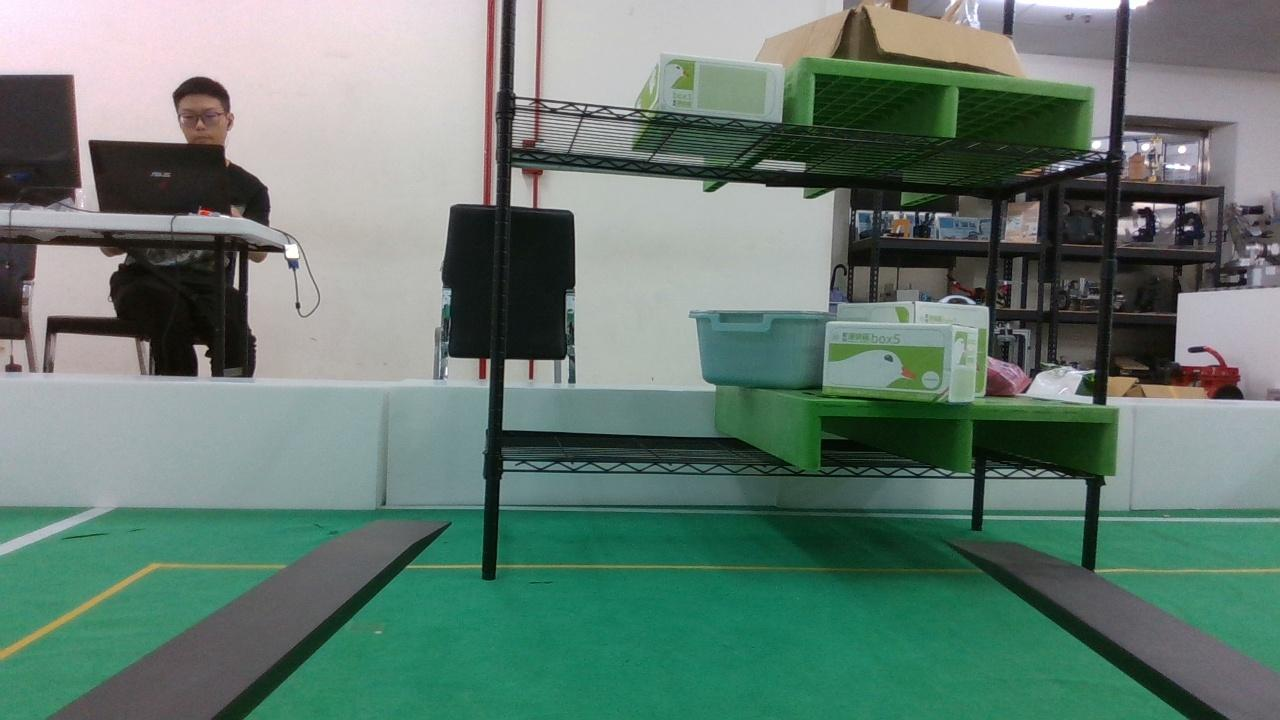Pallet: (795, 56, 1094, 155), (801, 398, 1120, 475)
